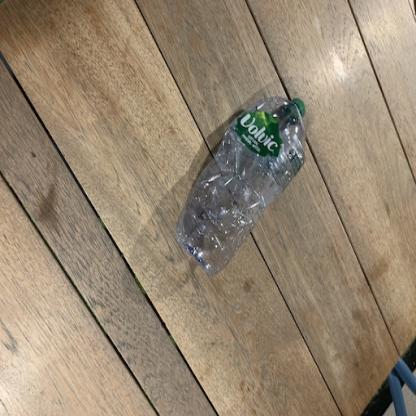trash: (174, 96, 308, 280)
